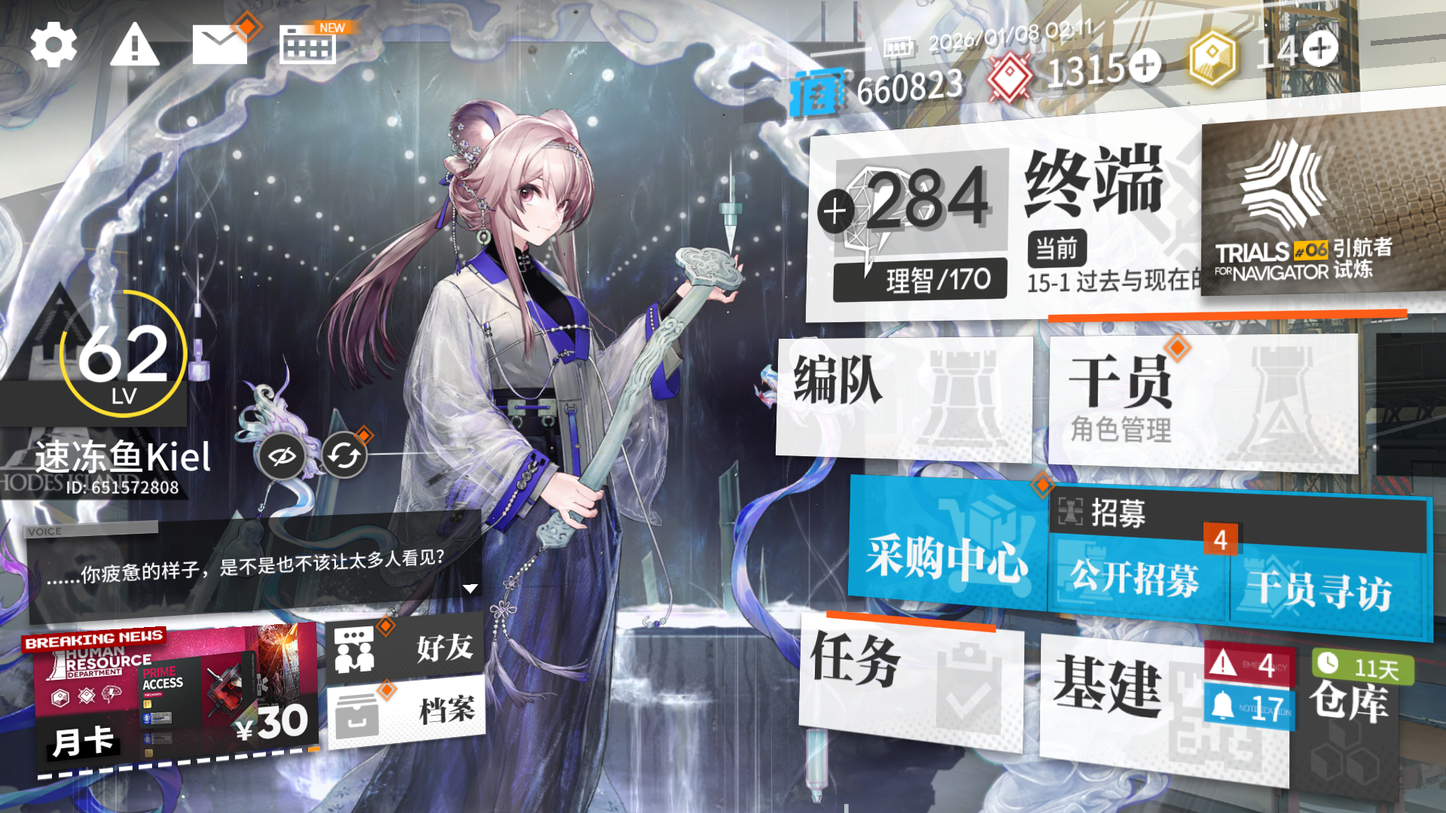home_button: (1018, 127, 1190, 233)
infrastructure_button: (1049, 628, 1268, 778)
